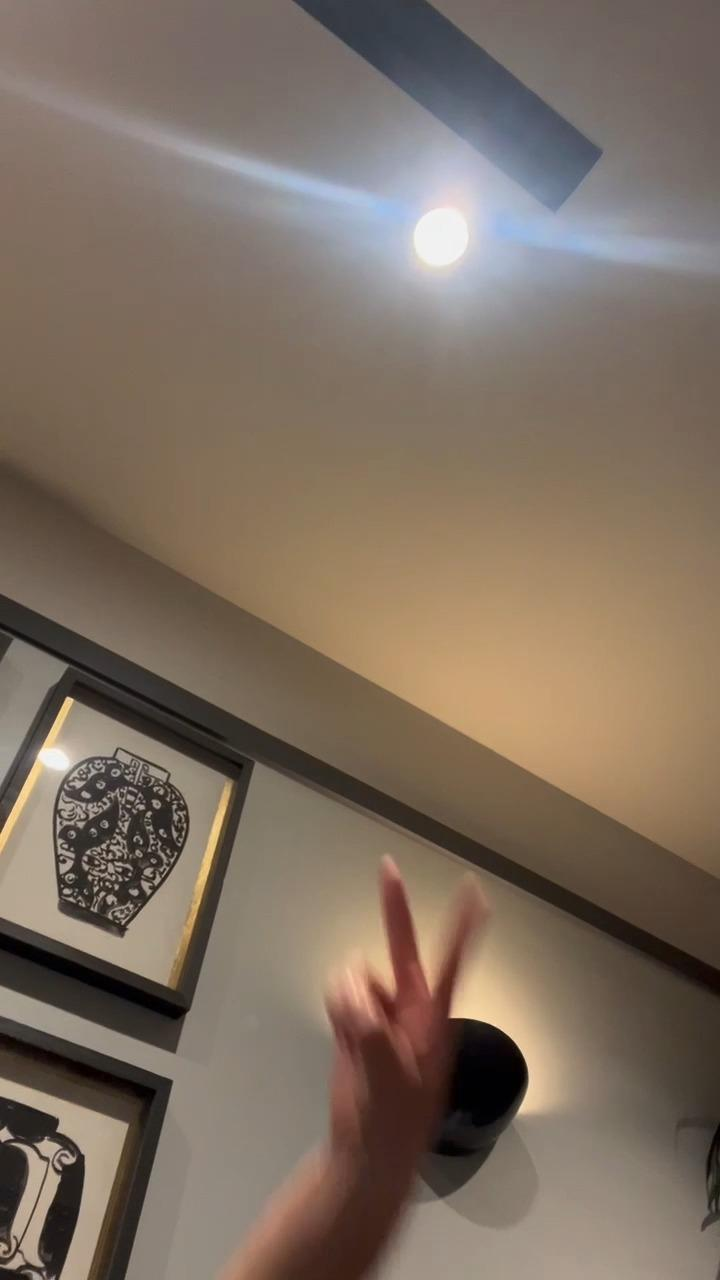Scissors: (320, 858, 490, 1178)
